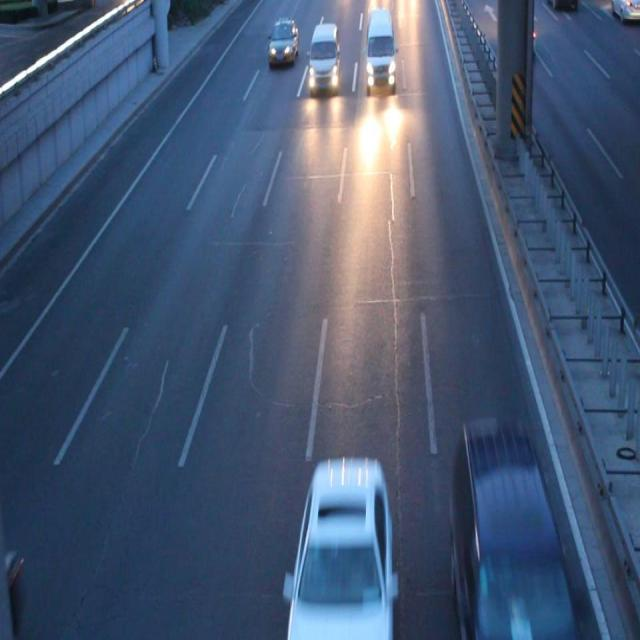car: (289, 462, 390, 640), (268, 20, 298, 64), (502, 17, 536, 49), (547, 1, 575, 12)
truck: (451, 419, 573, 640), (365, 9, 395, 86), (306, 26, 338, 88)
